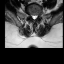CCS_normal: (33, 12, 35, 21)
LFS_stenosis: (37, 12, 39, 18)
LLS_normal: (35, 12, 37, 20)
RFS_stenosis: (29, 11, 31, 17)
RLS_normal: (31, 12, 33, 20)
